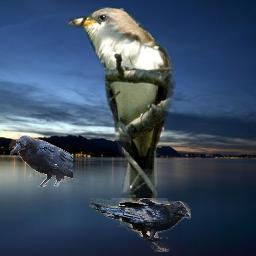Crow: (89, 198, 191, 252), (9, 134, 73, 187)
Cuckoo: (66, 7, 176, 234)
